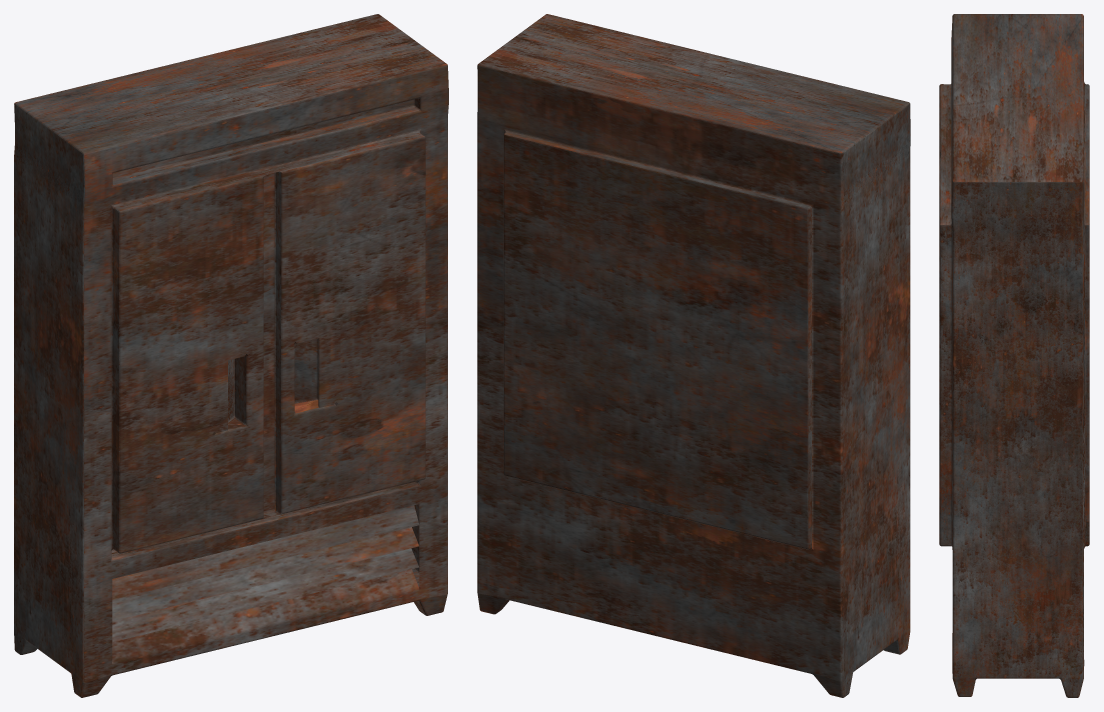
Rendered from geladeiraVelha.fbx.
The picture shows the model from 3 angles, left to right: view 1: azimuth 30°, elevation 25°; view 2: azimuth 150°, elevation 25°; view 3: azimuth 270°, elevation 25°; orthographic projection. The views are drawn at different scales.
Visible parts, largest first — view 1: Cube; view 2: Cube; view 3: Cube.
Boxes of the visible parts, x1,y1,x2,y2 form: Cube: [14, 14, 448, 697]; Cube: [477, 14, 910, 697]; Cube: [939, 14, 1089, 697].
Bounding box in the file's own units: 653 × 938 × 247.
1 material, 1 textured.
